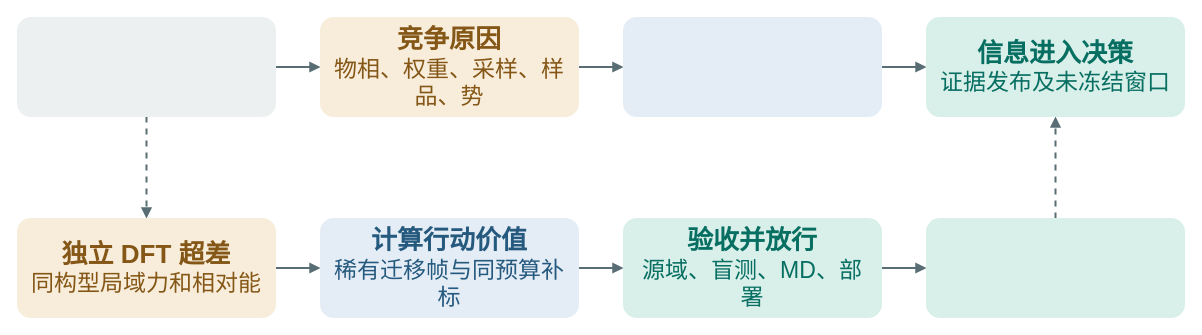
The diagram is 1202 pixels wide and 335 high, and some of its shapes have lost their labels. Here are the shapes that lost their labels. From the top down, the centre of each, then its label:
At (x=146, y=66): "概率排序分歧 定位贡献最大的结构族".
At (x=752, y=66): "分层诊断 XRD、短 MD、复测、 DFT".
At (x=1055, y=268): "选择性重算 按受影响依赖 · 可回滚".
